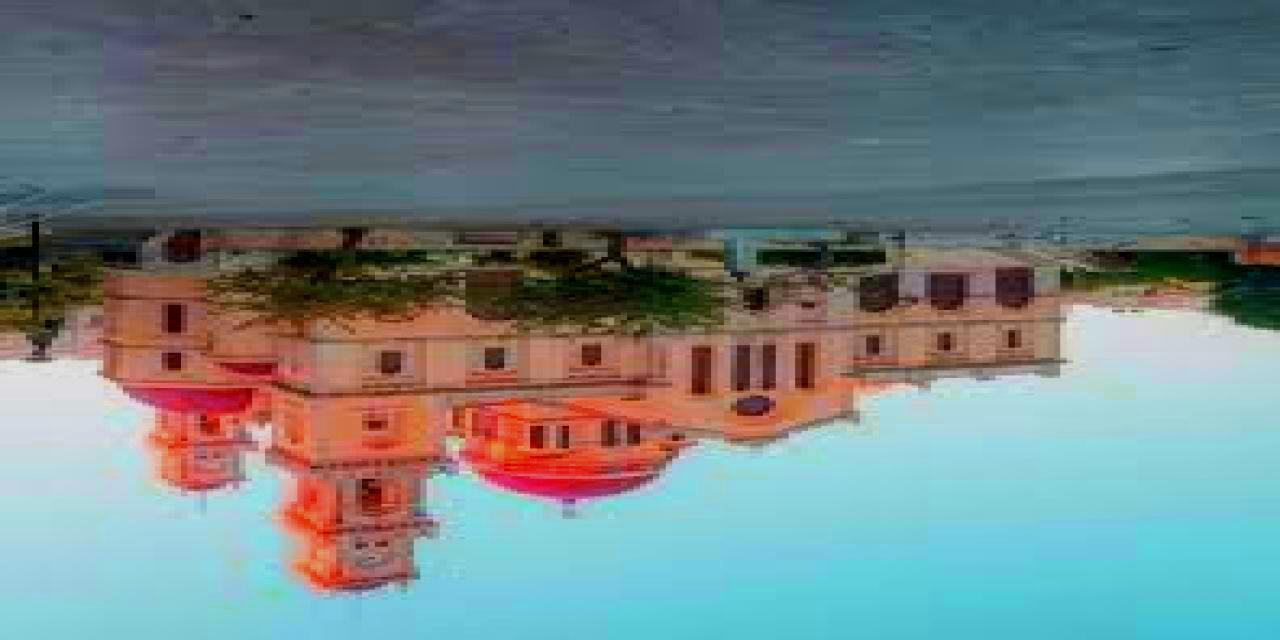Agios Minas: (77, 234, 1084, 594)
